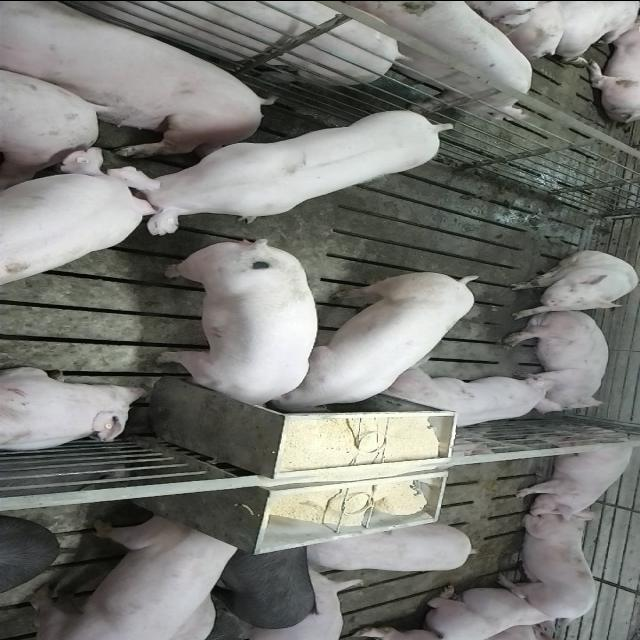Feeding: (273, 265, 481, 411), (154, 243, 318, 417)
Lateral_lying: (1, 5, 272, 158), (500, 307, 610, 413)
Sitting: (505, 250, 638, 314)
Standing: (110, 104, 452, 230), (12, 0, 416, 87), (18, 514, 246, 638), (335, 0, 537, 116), (0, 144, 154, 284), (508, 430, 636, 520), (308, 522, 481, 576), (216, 544, 318, 629)
Sternal_lying: (0, 366, 150, 452), (377, 368, 557, 432), (500, 514, 604, 618), (426, 584, 568, 639)
